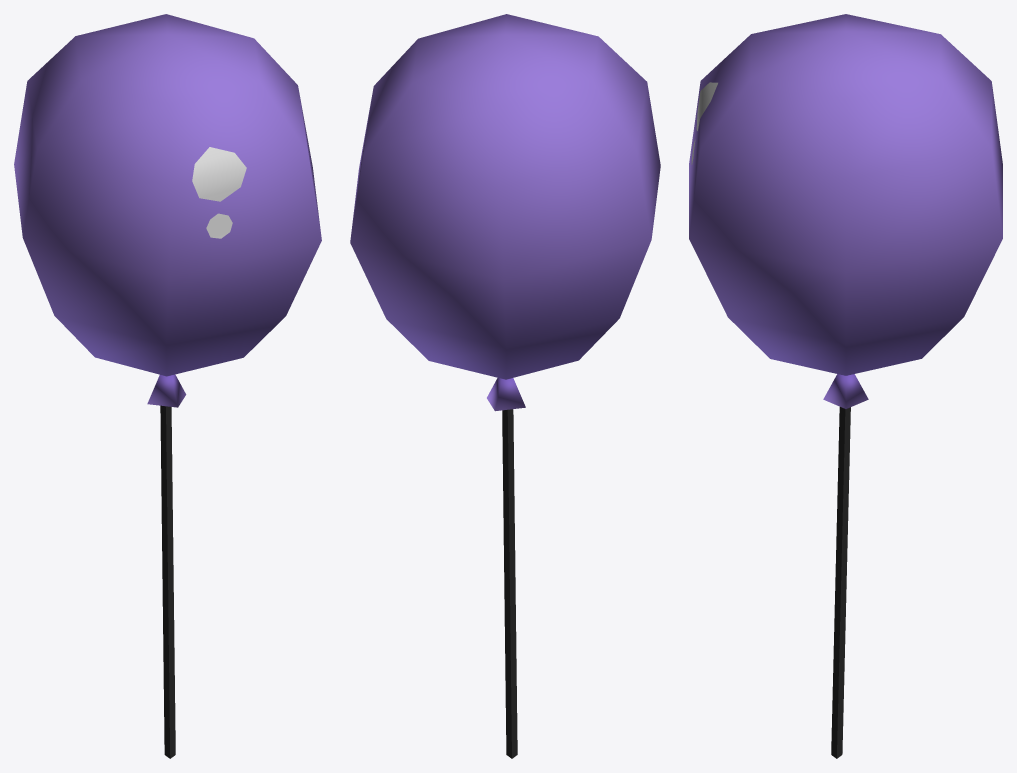
File: purpleBaloon.glb
The picture shows the model from 3 angles, left to right: view 1: azimuth 30°, elevation 25°; view 2: azimuth 150°, elevation 25°; view 3: azimuth 270°, elevation 25°; orthographic projection.
Parts seen in each view (by area): view 1: purpleBaloon; view 2: purpleBaloon; view 3: purpleBaloon.
Boxes of the visible parts, x1=… form: purpleBaloon: x1=14, y1=14, x2=321, y2=758; purpleBaloon: x1=350, y1=14, x2=660, y2=758; purpleBaloon: x1=689, y1=14, x2=1002, y2=758.
Bounding box in the file's own units: 0.5473 × 1.29 × 0.5071.
